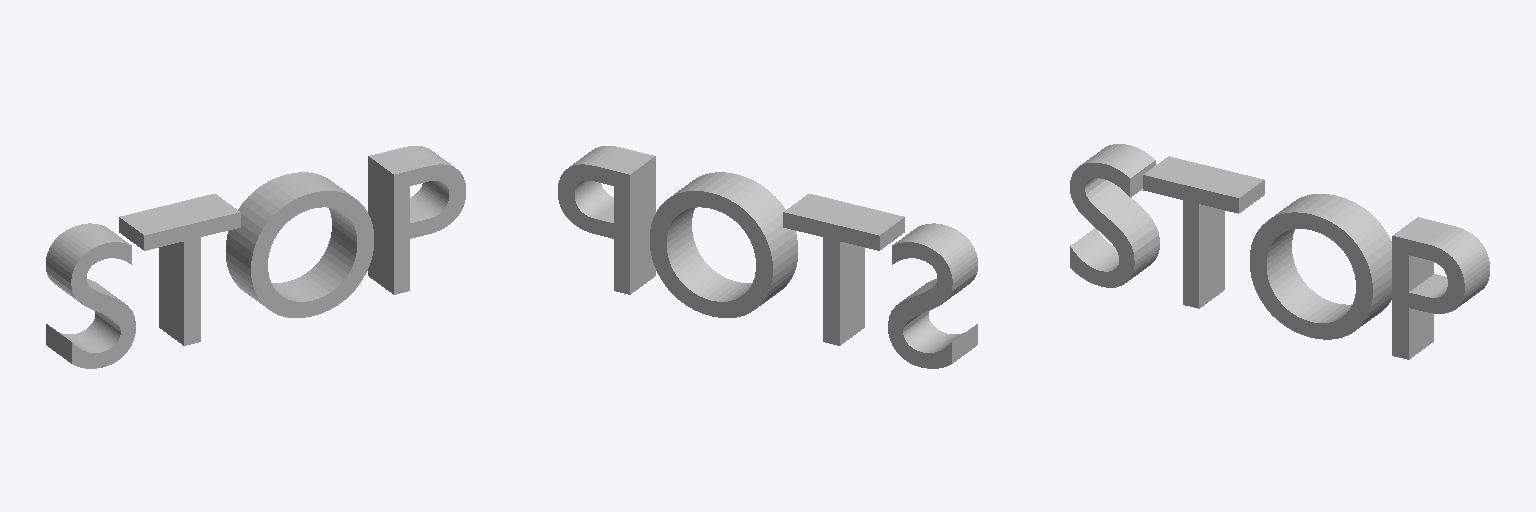
Rendered from stop_sign_text.obj.
The picture shows the model from 3 angles: view 1: azimuth 30°, elevation 25°; view 2: azimuth 150°, elevation 25°; view 3: azimuth 330°, elevation 25°; orthographic projection.
Parts seen in each view (by area): view 1: Text; view 2: Text; view 3: Text.
Boxes of the visible parts, x1=… form: Text: x1=46, y1=146, x2=465, y2=368; Text: x1=558, y1=146, x2=977, y2=368; Text: x1=1070, y1=144, x2=1489, y2=359.
Size of the model in its own units: 1.66 by 0.4948 by 0.1852.